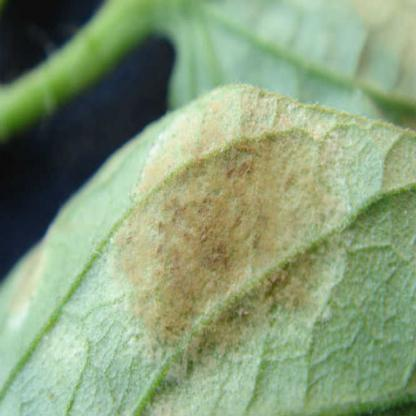Tomato mold leaf: (0, 54, 416, 415)
